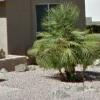Tree: (36, 3, 93, 72)
